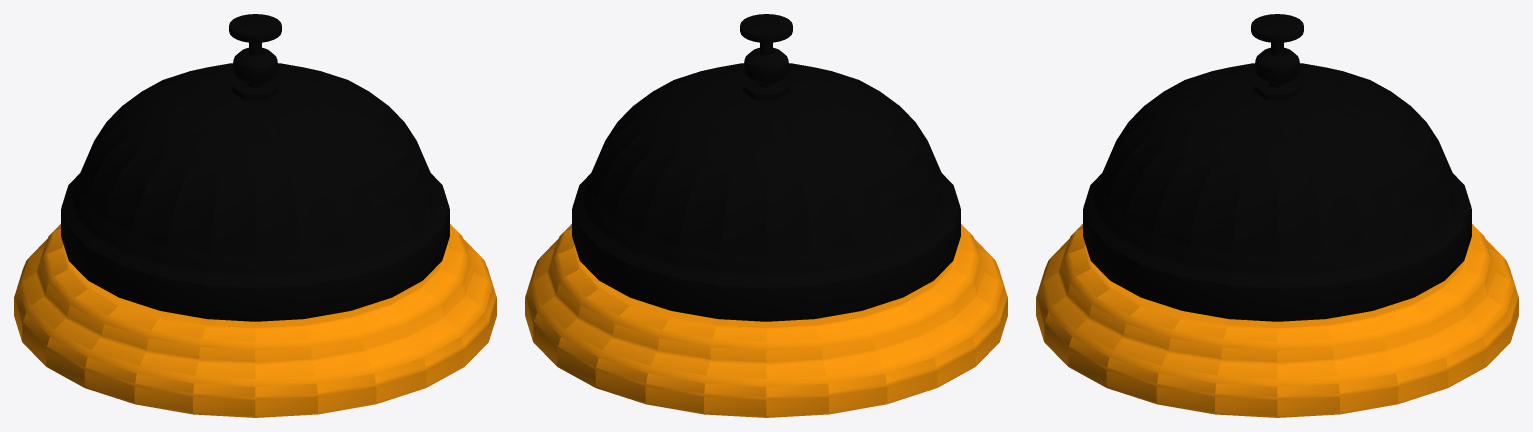
Rendered from Bell_01.FBX.
The picture shows the model from 3 angles, left to right: view 1: azimuth 30°, elevation 25°; view 2: azimuth 150°, elevation 25°; view 3: azimuth 270°, elevation 25°; orthographic projection.
Parts seen in each view (by area): view 1: Bell_01_part_03, Bell_01_part_05, Bell_01_part_02, Bell_01_part_01; view 2: Bell_01_part_03, Bell_01_part_05, Bell_01_part_02, Bell_01_part_01; view 3: Bell_01_part_03, Bell_01_part_05, Bell_01_part_02, Bell_01_part_01.
Part boxes in pixels (x1,y1,x2,y2): Bell_01_part_03: (61, 63, 449, 321); Bell_01_part_05: (14, 224, 496, 417); Bell_01_part_02: (232, 47, 278, 100); Bell_01_part_01: (229, 14, 281, 55); Bell_01_part_03: (572, 63, 960, 321); Bell_01_part_05: (525, 224, 1007, 417); Bell_01_part_02: (743, 47, 789, 100); Bell_01_part_01: (740, 14, 792, 55); Bell_01_part_03: (1083, 63, 1471, 321); Bell_01_part_05: (1036, 224, 1518, 417); Bell_01_part_02: (1254, 47, 1300, 100); Bell_01_part_01: (1251, 14, 1303, 55).
Size of the model in its own units: 88.98 by 59.19 by 88.98.
